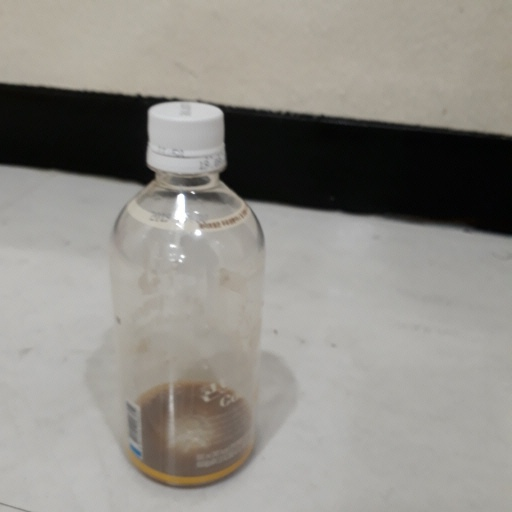Plastic_0: (104, 97, 266, 487)
